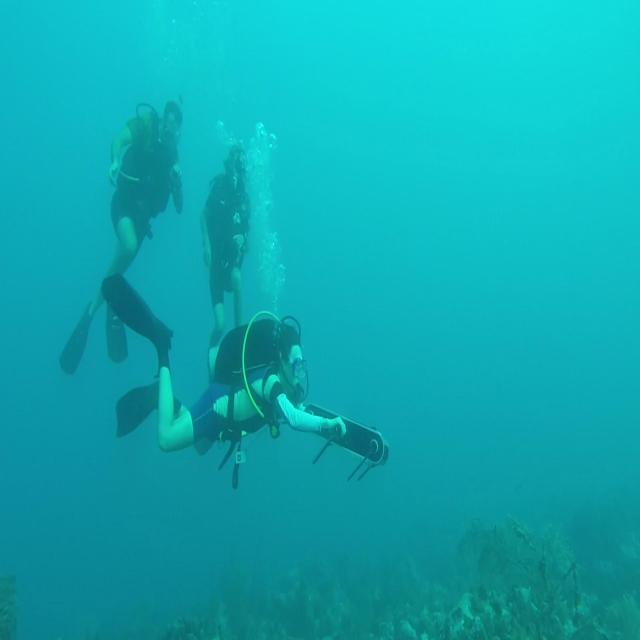human: (103, 271, 399, 504), (58, 97, 184, 376), (200, 142, 251, 349)
